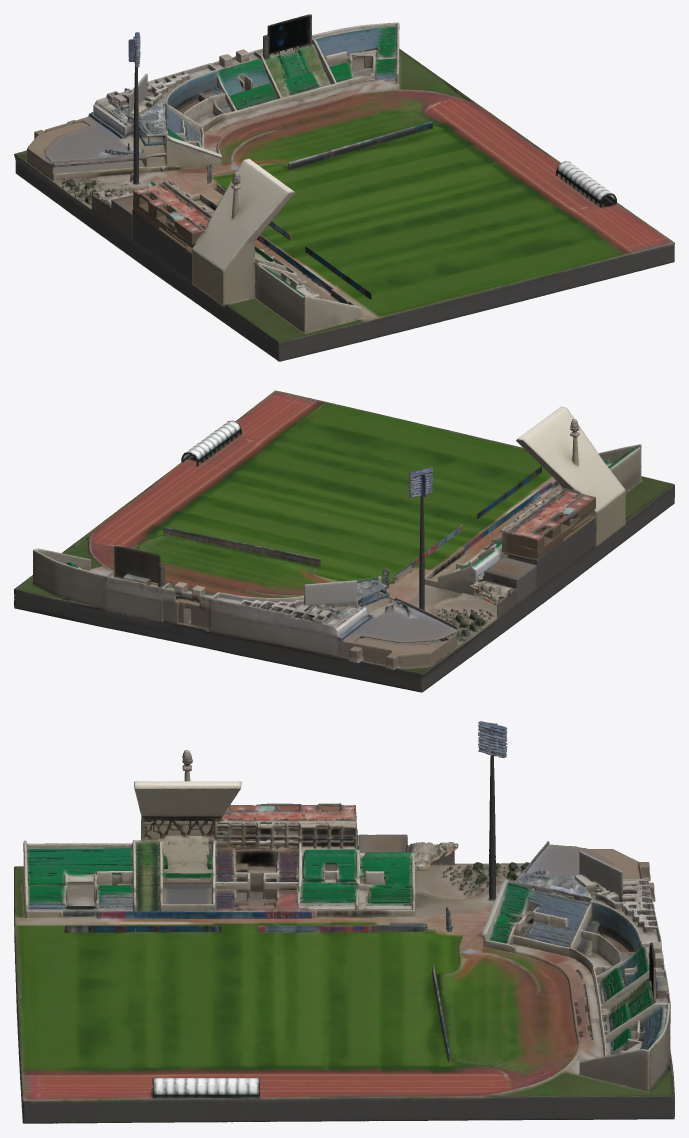
The model's file is matrouh-stadium-1.glb.
The picture shows the model from 3 angles, top to bottom: view 1: azimuth 30°, elevation 25°; view 2: azimuth 150°, elevation 25°; view 3: azimuth 270°, elevation 25°; orthographic projection. The views are drawn at different scales.
Size of the model in its own units: 0.8525 by 0.3327 by 1.
1 material, 1 textured.
